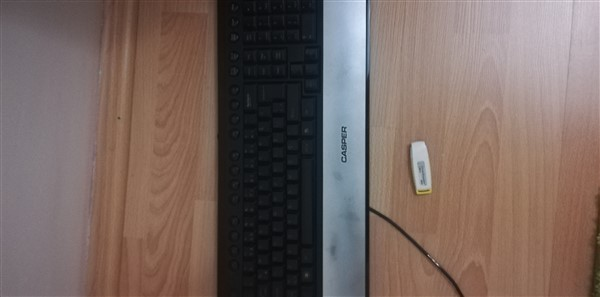flash disk: (404, 139, 441, 200)
klavye: (215, 1, 376, 297)
